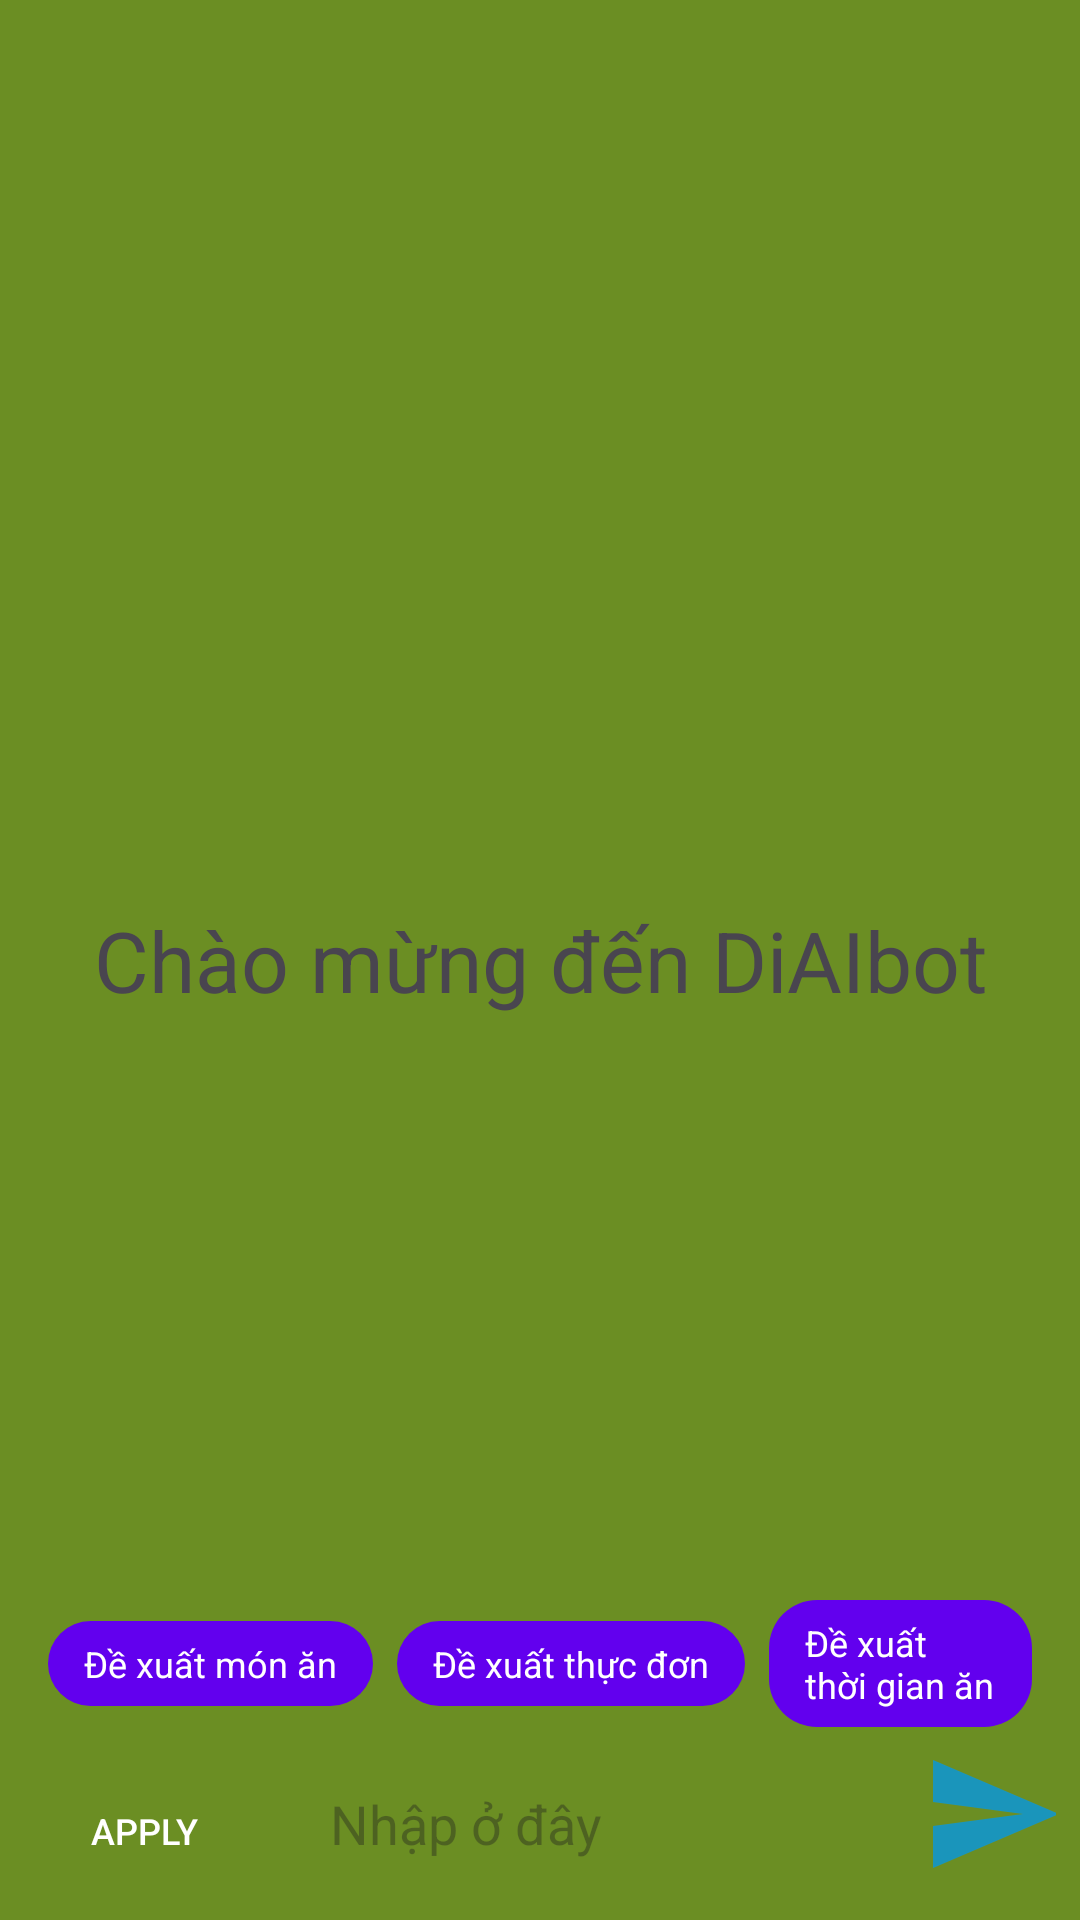

Icons on this 1080 x 1920 Android screen, each with its box as detection(x1, y1, x2, y2):
send: detection(933, 1760, 1056, 1868)
